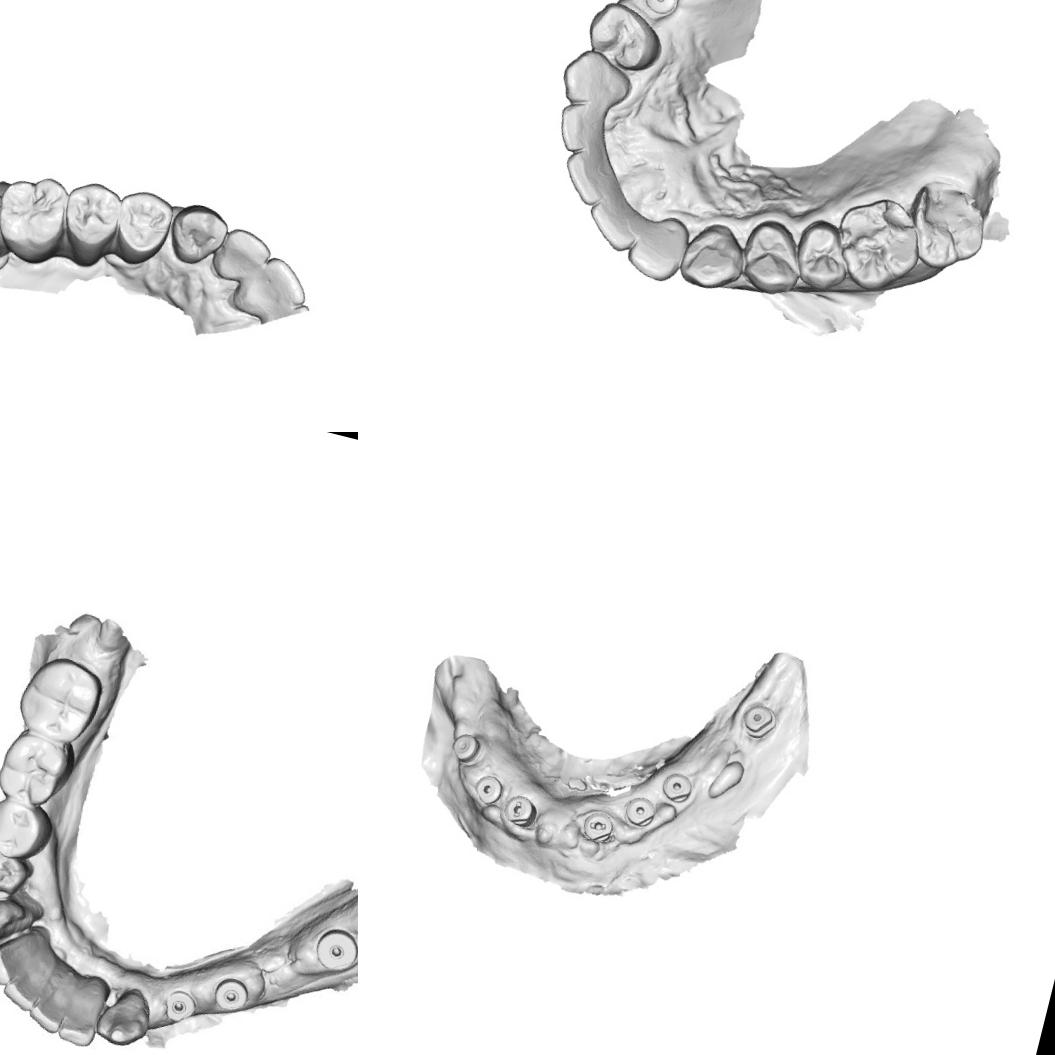canine: (554, 42, 641, 116), (674, 218, 752, 298), (164, 198, 232, 272), (92, 981, 156, 1052), (0, 888, 42, 960)
implant: (308, 919, 358, 983), (210, 964, 257, 1019), (159, 982, 200, 1028), (737, 700, 780, 743), (446, 728, 484, 768), (657, 768, 696, 805), (620, 793, 658, 830), (469, 770, 505, 808), (635, 0, 686, 24)
implant_minus: (578, 807, 620, 848), (498, 791, 540, 831)
incisor: (228, 247, 314, 326), (548, 142, 635, 215), (620, 208, 693, 286), (546, 95, 625, 164), (579, 183, 649, 258), (208, 222, 276, 290), (21, 963, 76, 1035), (48, 986, 106, 1051), (0, 946, 54, 1015), (0, 924, 42, 992)
molar: (820, 187, 932, 304), (896, 172, 999, 280), (10, 647, 109, 751), (0, 166, 74, 270), (0, 727, 75, 813)
premolar: (730, 212, 814, 304), (51, 175, 126, 274), (579, 0, 672, 79), (783, 213, 859, 300), (104, 183, 178, 271), (0, 791, 57, 865), (0, 843, 36, 912)
